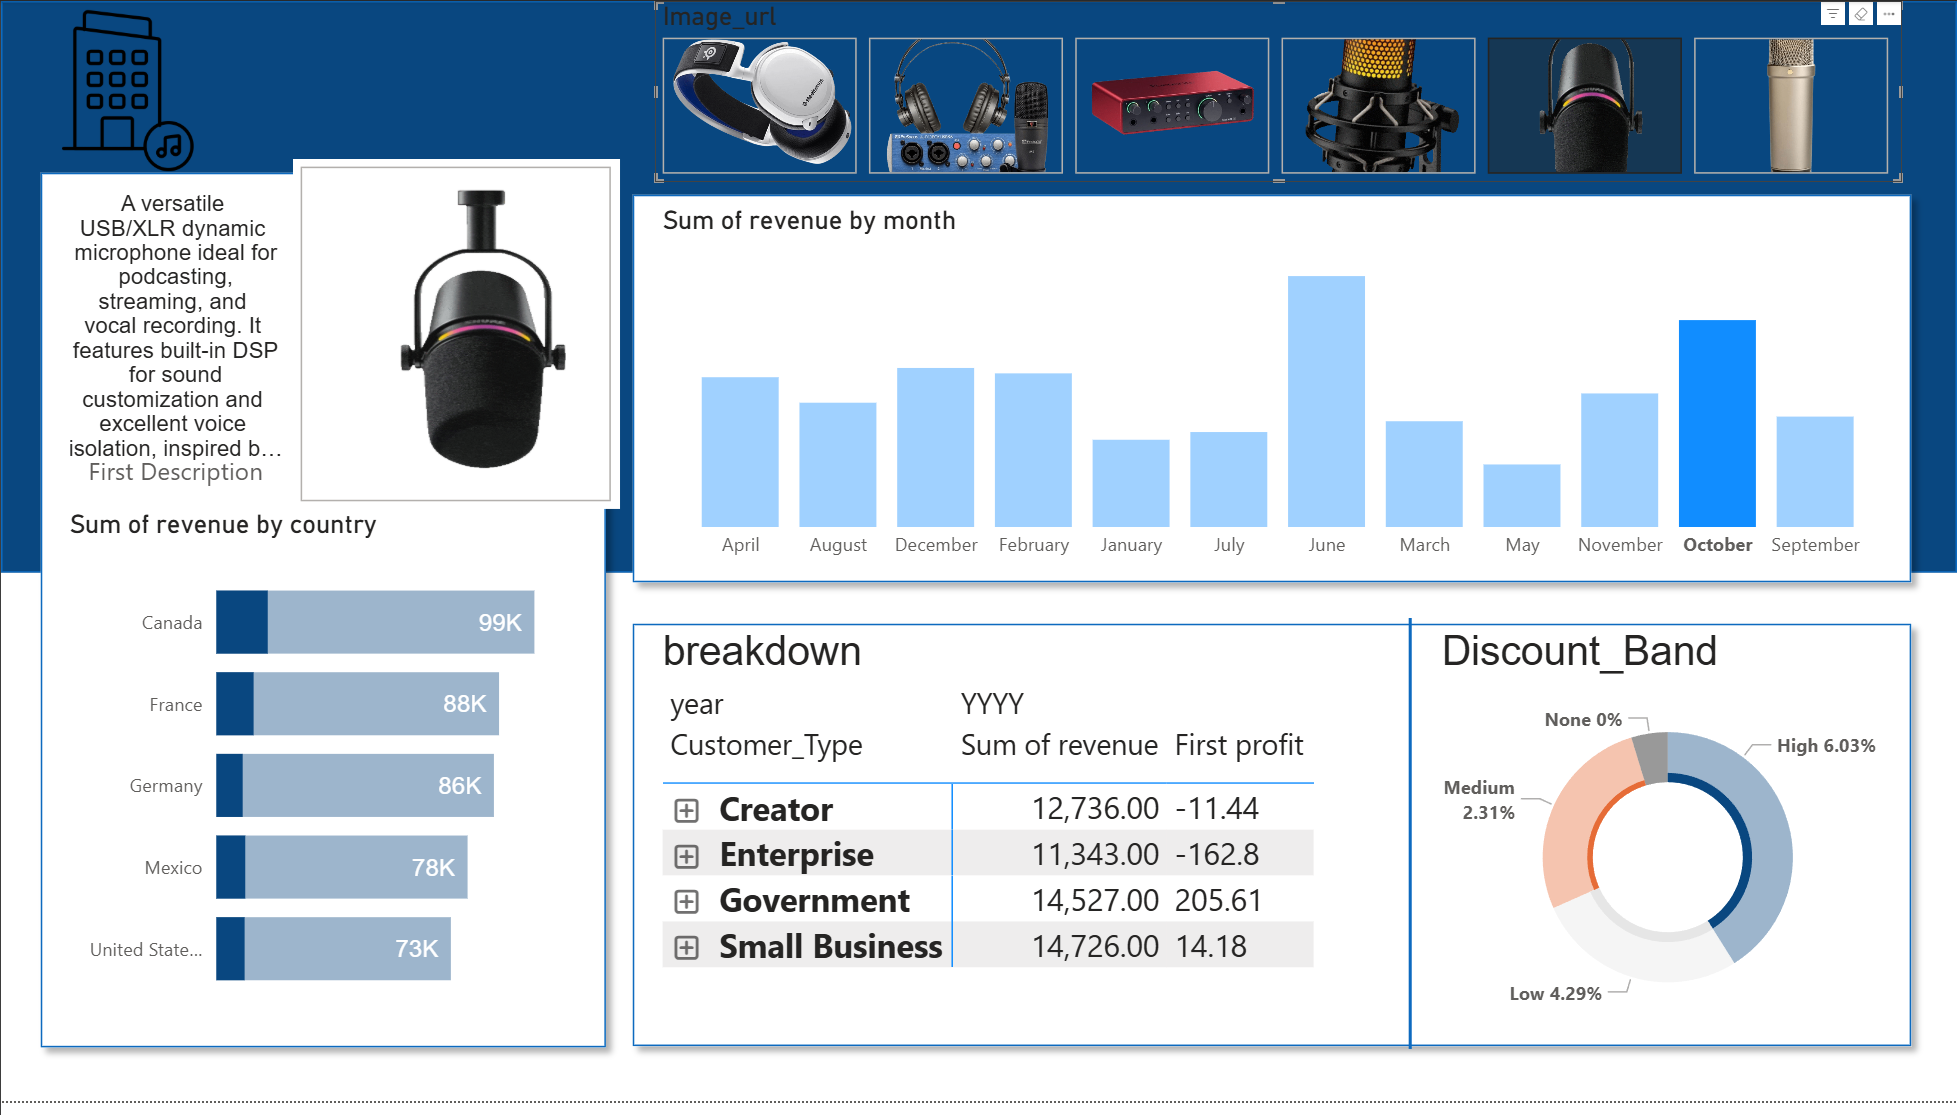

Layout of this report page (visuals, bound fields, positions):
{"tool":"powerbi","page":{"name":"Page 1","canvas":[1280,720],"ordinal":0},"visuals":[{"type":"shape","box":[0,0,1280,374.1],"z":0},{"type":"shape","box":[17.2,103.2,387.8,590.3],"z":1000},{"type":"shape","box":[404.5,398.8,854.6,294.4],"z":2000},{"type":"shape","box":[404.5,117.7,854.6,271.6],"z":3000},{"type":"image","box":[17.1,0,132.9,117.7],"z":4000},{"type":"advancedSlicerVisual","fields":{"Values":["Query1.Image_url"]},"box":[427.9,0,815.8,118.4],"z":5000},{"type":"cardVisual","fields":{"Data":["Min(Query1.Image_url)"]},"box":[184.5,110.6,214,229],"z":6000},{"type":"card","fields":{"Values":["Min(Query1.Description)"]},"box":[38.2,103.2,152.8,229.3],"z":7000},{"type":"clusteredBarChart","fields":{"Category":["Query1.country"],"Y":["Sum(Query1.revenue)"]},"box":[40.1,332.4,351.5,336.2],"z":8000},{"type":"columnChart","fields":{"Category":["Query1.month","Query1.date.Variation.Date Hierarchy.Year","Query1.date.Variation.Date Hierarchy.Quarter","Query1.date.Variation.Date Hierarchy.Month","Query1.date.Variation.Date Hierarchy.Day"],"Y":["Sum(Query1.revenue)"]},"box":[427.9,133.7,815.8,240.7],"z":9000},{"type":"donutChart","title":" Discount_Band","fields":{"Category":["Query1.Discount_Band"],"Y":["Sum(Query1.revenue)"]},"box":[938,410,306,270],"z":10000},{"type":"pivotTable","title":"breakdown","fields":{"Rows":["Query1.Customer_Type","Query1.Product"],"Columns":["Query1.year"],"Values":["Sum(Query1.revenue)","Min(Query1.profit)"]},"box":[428,410,494,270],"z":11000},{"type":"shape","box":[772,404,300,282],"z":12000}]}

Visuals, with their boxes in screenshot pixels (x1, y1, x2, y2):
shape: [x1=10, y1=15, x2=1940, y2=579]
shape: [x1=36, y1=171, x2=621, y2=1061]
shape: [x1=620, y1=617, x2=1909, y2=1060]
shape: [x1=620, y1=193, x2=1909, y2=602]
image: [x1=36, y1=15, x2=236, y2=193]
advancedSlicerVisual - Query1.Image_url: [x1=655, y1=15, x2=1885, y2=194]
cardVisual - Min(Query1.Image_url): [x1=288, y1=182, x2=611, y2=527]
card - Min(Query1.Description): [x1=68, y1=171, x2=298, y2=517]
clusteredBarChart - Query1.country x Sum(Query1.revenue): [x1=71, y1=516, x2=601, y2=1023]
columnChart - Query1.month x Query1.date.Variation.Date Hierarchy.Year: [x1=655, y1=217, x2=1885, y2=580]
" Discount_Band" donutChart: [x1=1424, y1=633, x2=1886, y2=1041]
"breakdown" pivotTable: [x1=656, y1=633, x2=1400, y2=1041]
shape: [x1=1174, y1=624, x2=1627, y2=1050]
